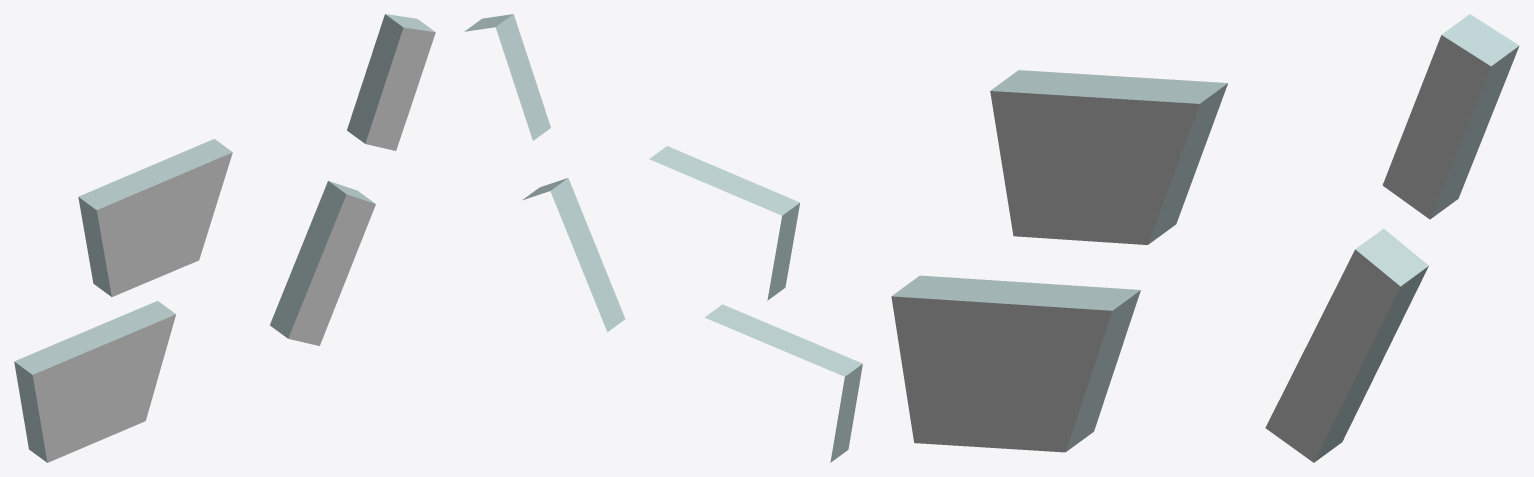
The picture shows the model from 3 angles, left to right: view 1: azimuth 30°, elevation 25°; view 2: azimuth 150°, elevation 25°; view 3: azimuth 330°, elevation 25°; orthographic projection. The views are drawn at different scales.
Parts seen in each view (by area): view 1: 0_2_1_2_3_3_0_1_1; view 2: 0_2_1_2_3_3_0_1_1; view 3: 0_2_1_2_3_3_0_1_1.
Part boxes in pixels (x1,y1,x2,y2): 0_2_1_2_3_3_0_1_1: (14,14,435,462); 0_2_1_2_3_3_0_1_1: (464,14,862,462); 0_2_1_2_3_3_0_1_1: (891,14,1519,462).
Size of the model in its own units: 37.12 by 31.8 by 4.12.
